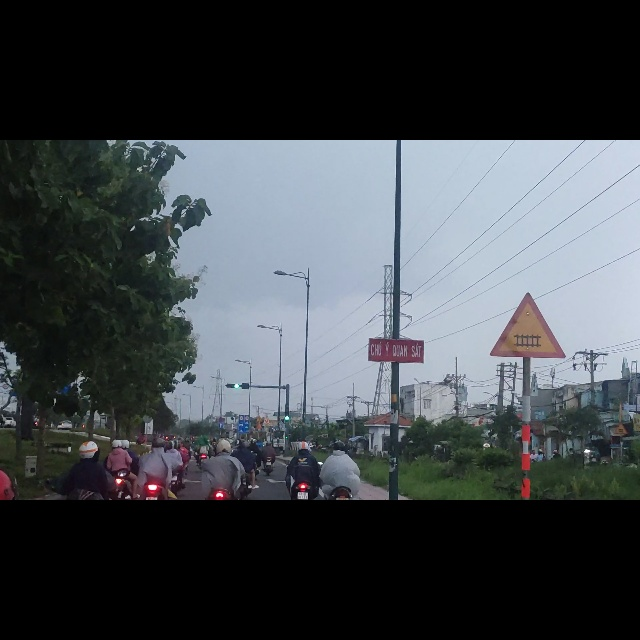bien_cam: (490, 269, 566, 390), (218, 503, 224, 513)
